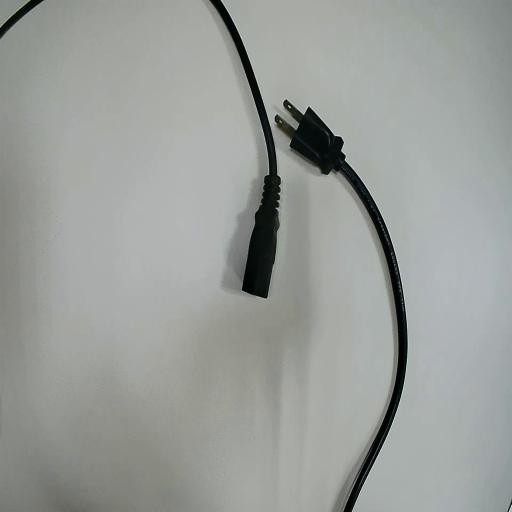wire: (276, 102, 406, 511), (211, 0, 279, 296)
